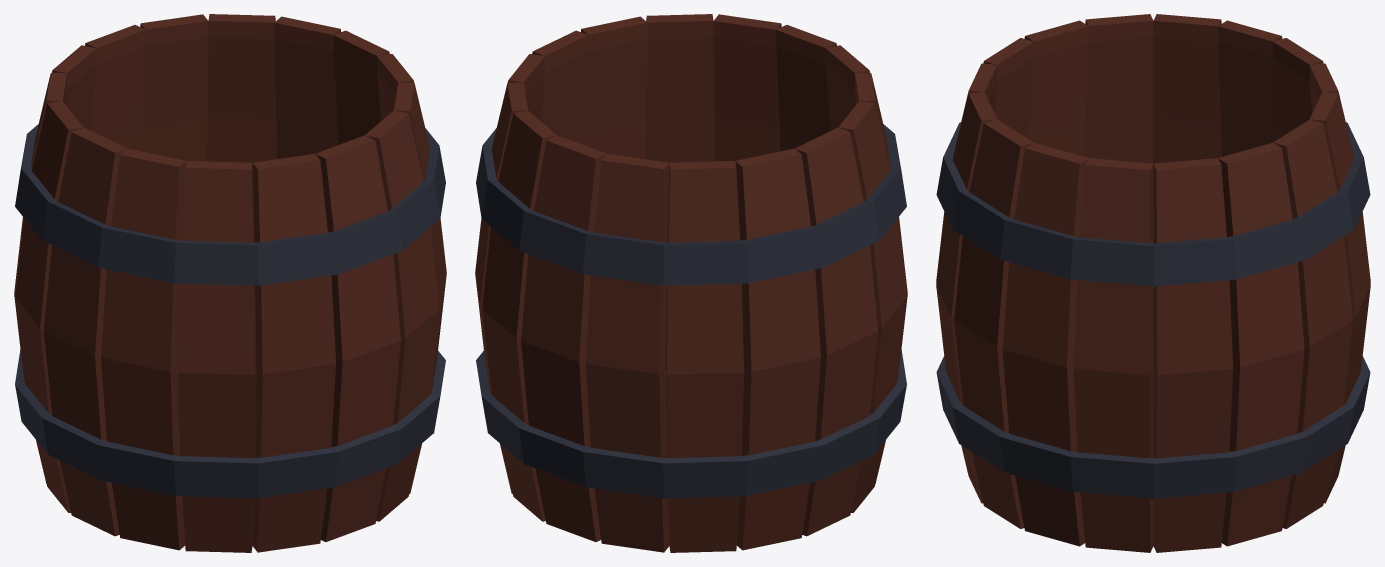
File: SM_Barrel_Open.fbx
3 renders of one model, left to right at view 1: azimuth 30°, elevation 25°; view 2: azimuth 150°, elevation 25°; view 3: azimuth 270°, elevation 25°, orthographic.
Visible parts, largest first — view 1: Barrel_O; view 2: Barrel_O; view 3: Barrel_O.
Boxes of the visible parts, <box> form: Barrel_O: <box>14,14,446,552</box>; Barrel_O: <box>475,14,907,552</box>; Barrel_O: <box>936,14,1370,552</box>.
Size of the model in its own units: 133 by 133 by 129.
